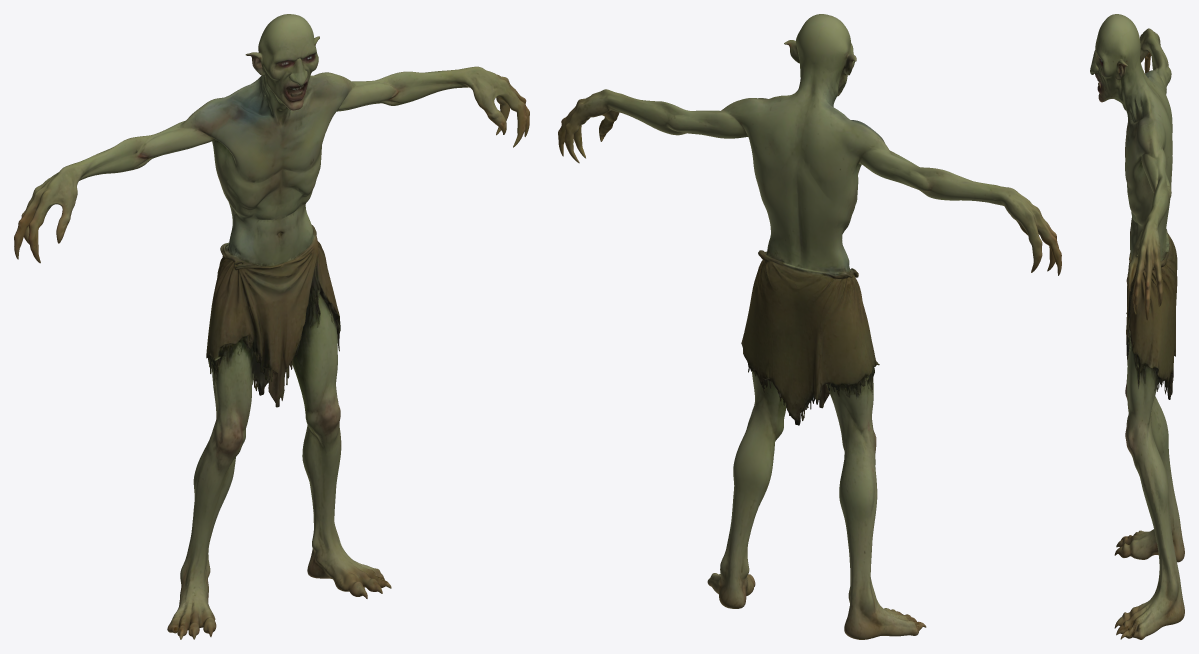
Rendered from wendigo.glb.
3 renders of one model, left to right at view 1: azimuth 30°, elevation 25°; view 2: azimuth 150°, elevation 25°; view 3: azimuth 270°, elevation 25°, orthographic. The views are drawn at different scales.
Visible parts, largest first — view 1: material; view 2: material; view 3: material.
Boxes of the visible parts, x1=… form: material: x1=14, y1=14, x2=529, y2=639; material: x1=558, y1=14, x2=1061, y2=639; material: x1=1090, y1=14, x2=1184, y2=639.
Bounding box in the file's own units: 1.78 × 1.98 × 0.2962.
1 material, 1 textured.
